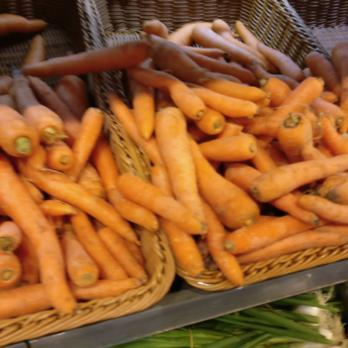Carrot: (127, 67, 348, 250), (1, 53, 122, 297)
